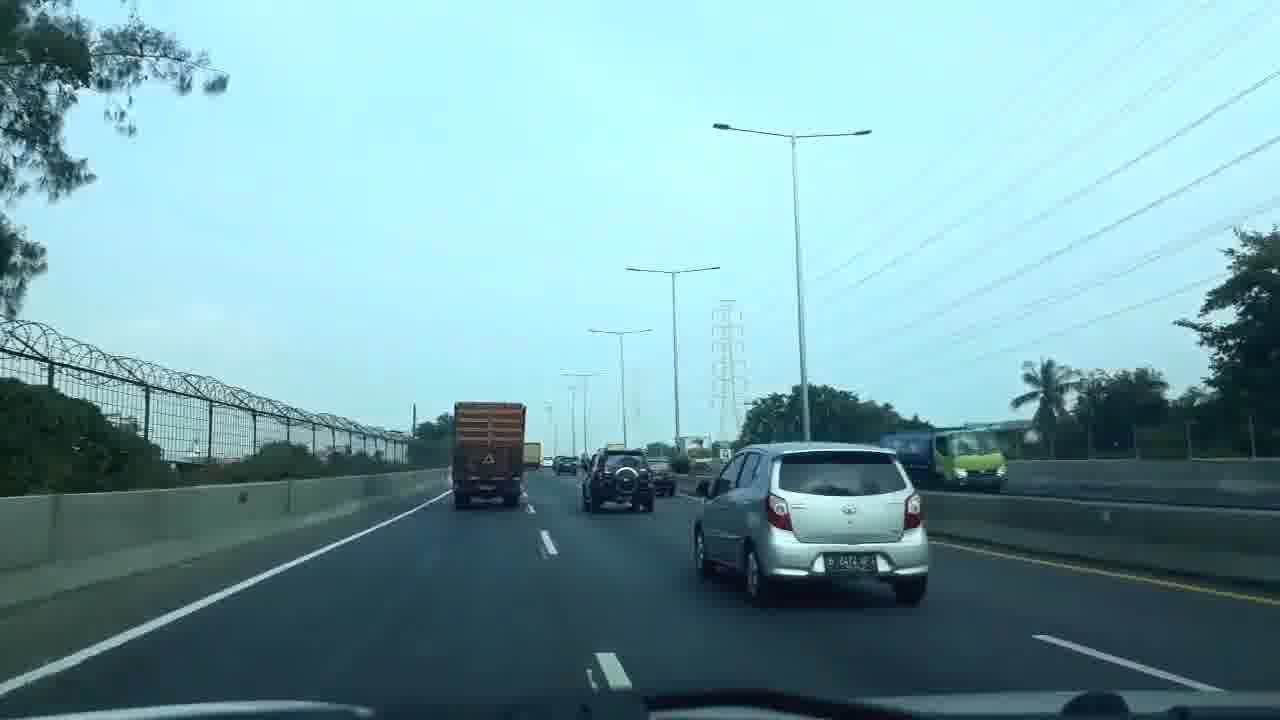plate_positive: (823, 553, 878, 573)
